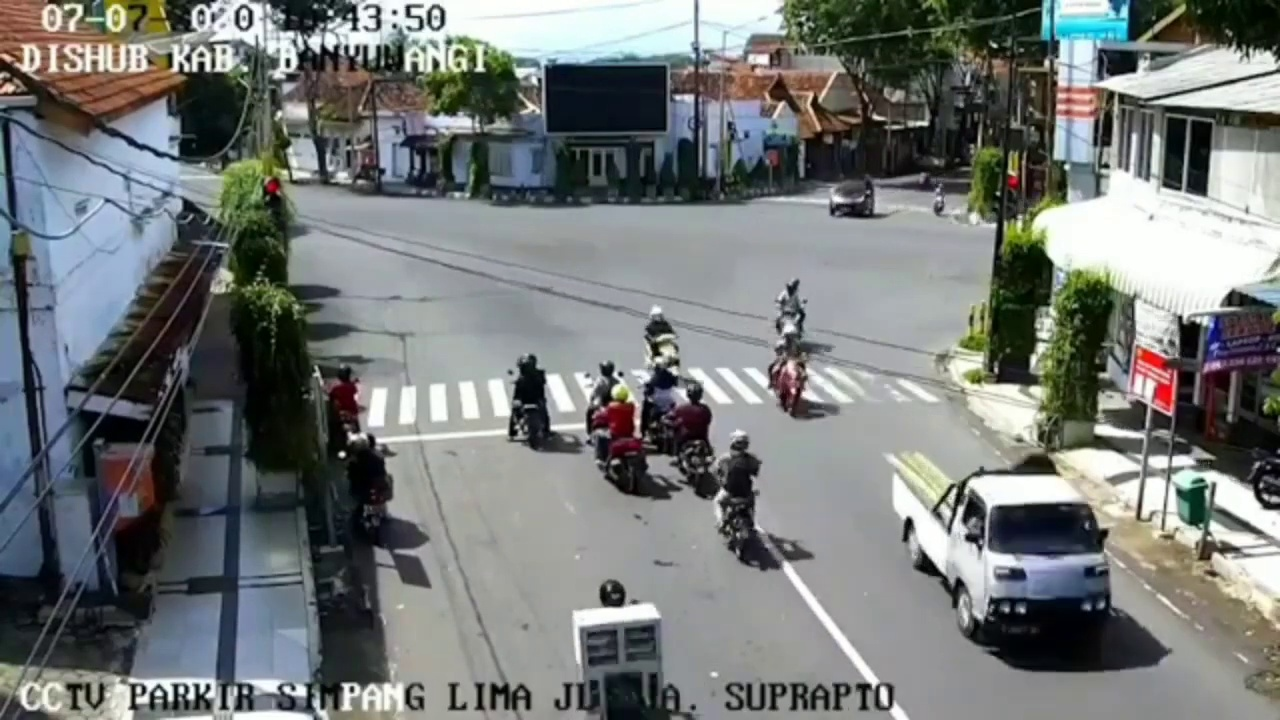car: (884, 446, 1114, 665), (826, 178, 877, 219)
motorbike: (572, 579, 664, 720), (710, 425, 760, 566), (344, 434, 396, 541), (600, 384, 646, 495), (672, 379, 716, 494), (509, 351, 550, 451), (328, 363, 367, 452), (767, 331, 807, 417), (644, 354, 678, 452), (644, 304, 680, 383), (587, 360, 615, 460), (780, 278, 809, 352), (933, 184, 944, 215)
